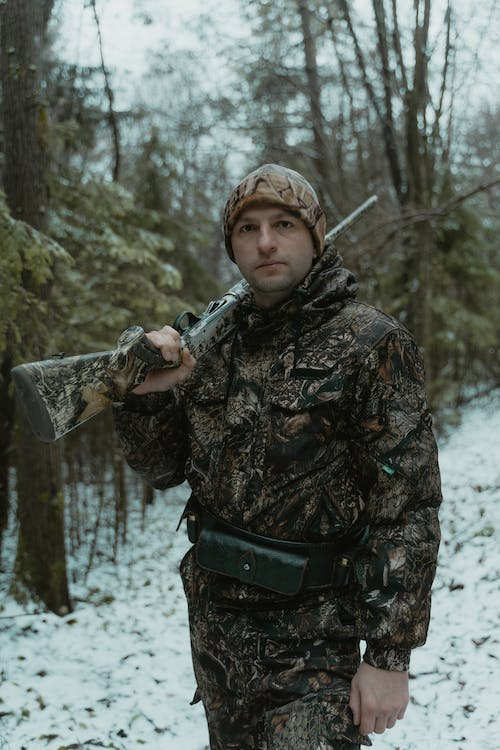gun: (8, 190, 381, 444)
